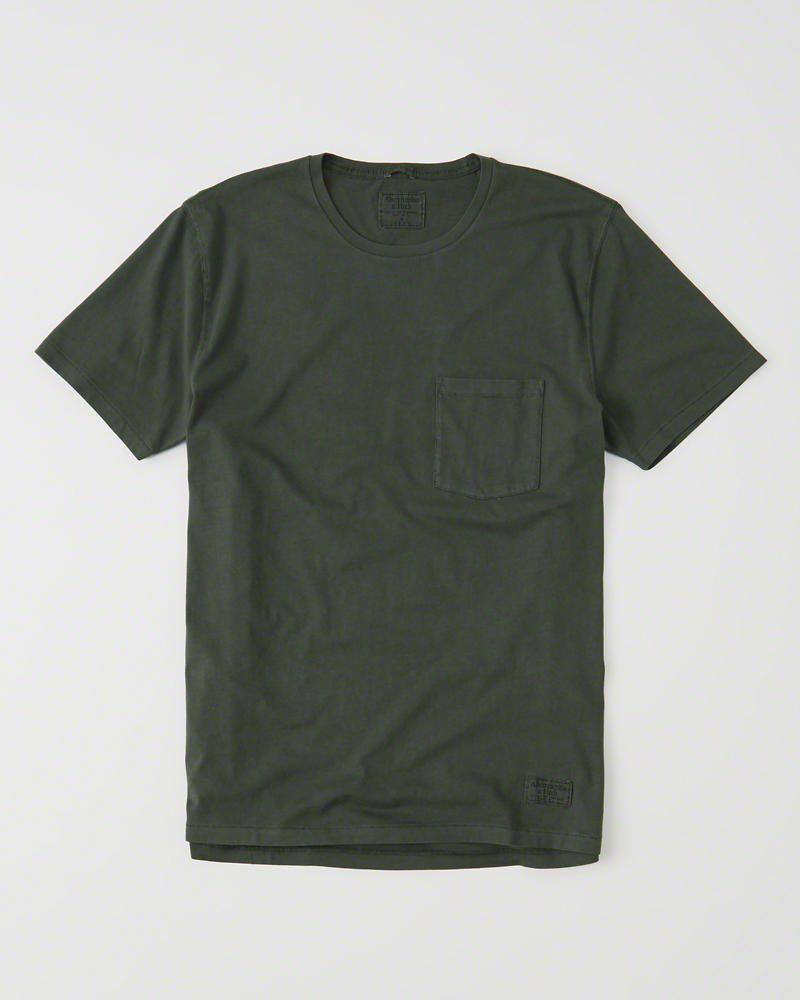teeshirt: (14, 148, 800, 891)
